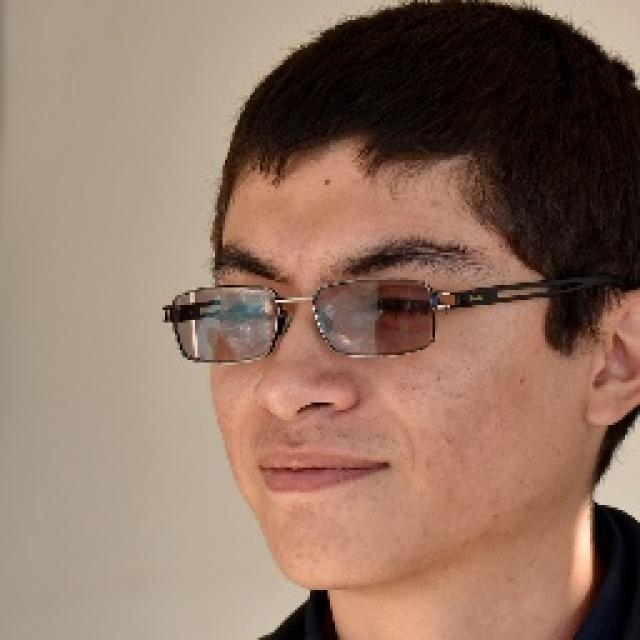earlobe: (585, 399, 629, 429)
eye: (362, 289, 439, 324), (209, 301, 276, 327)
nose: (262, 399, 354, 443)
wholeear: (586, 288, 640, 429)
